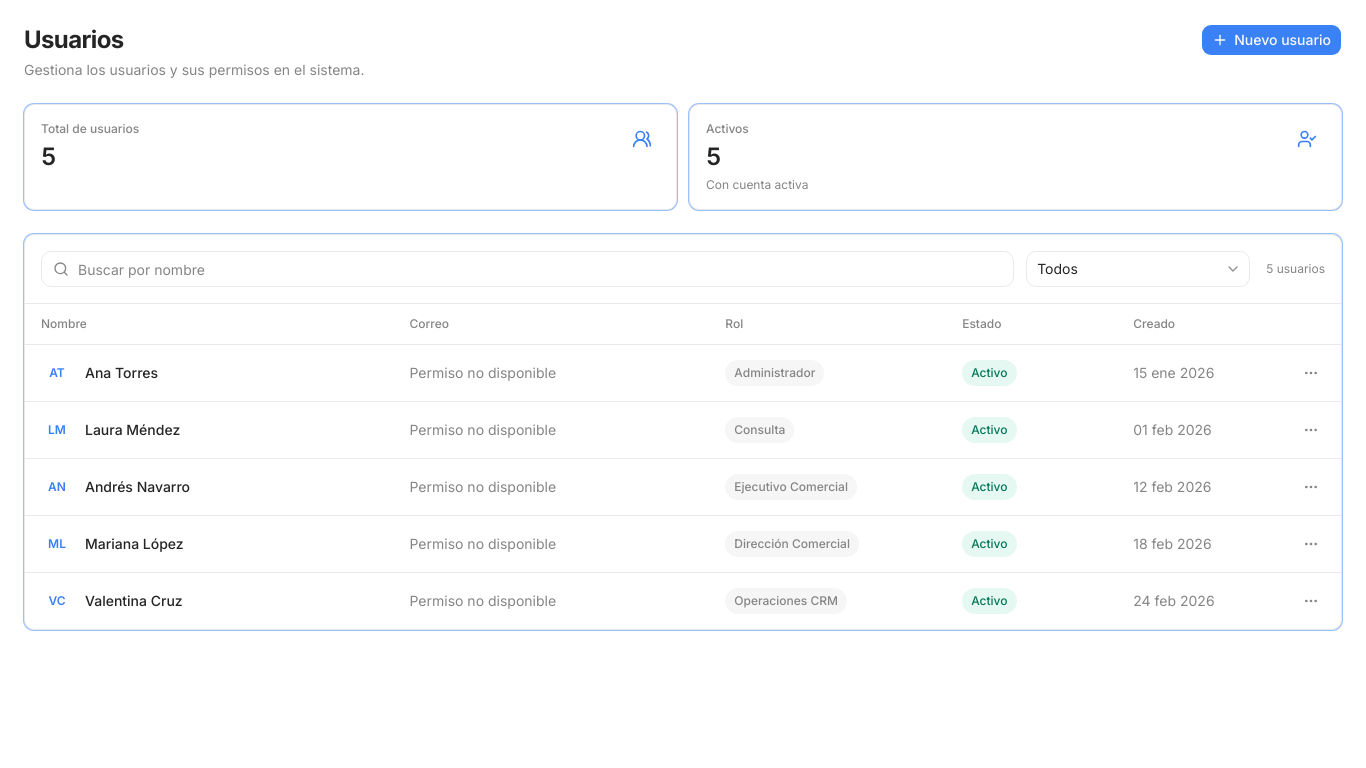
Test: UsuariosListPage › abre el diálogo "Editar usuario" con datos precargados
Expected: the text "Laura Méndez" is shown, 85,420 -> 180,440
# La segunda fila es Laura Méndez (índice 1)
Click the button named "acciones" at x=1311, y=430, box 1297,416 -> 1325,444
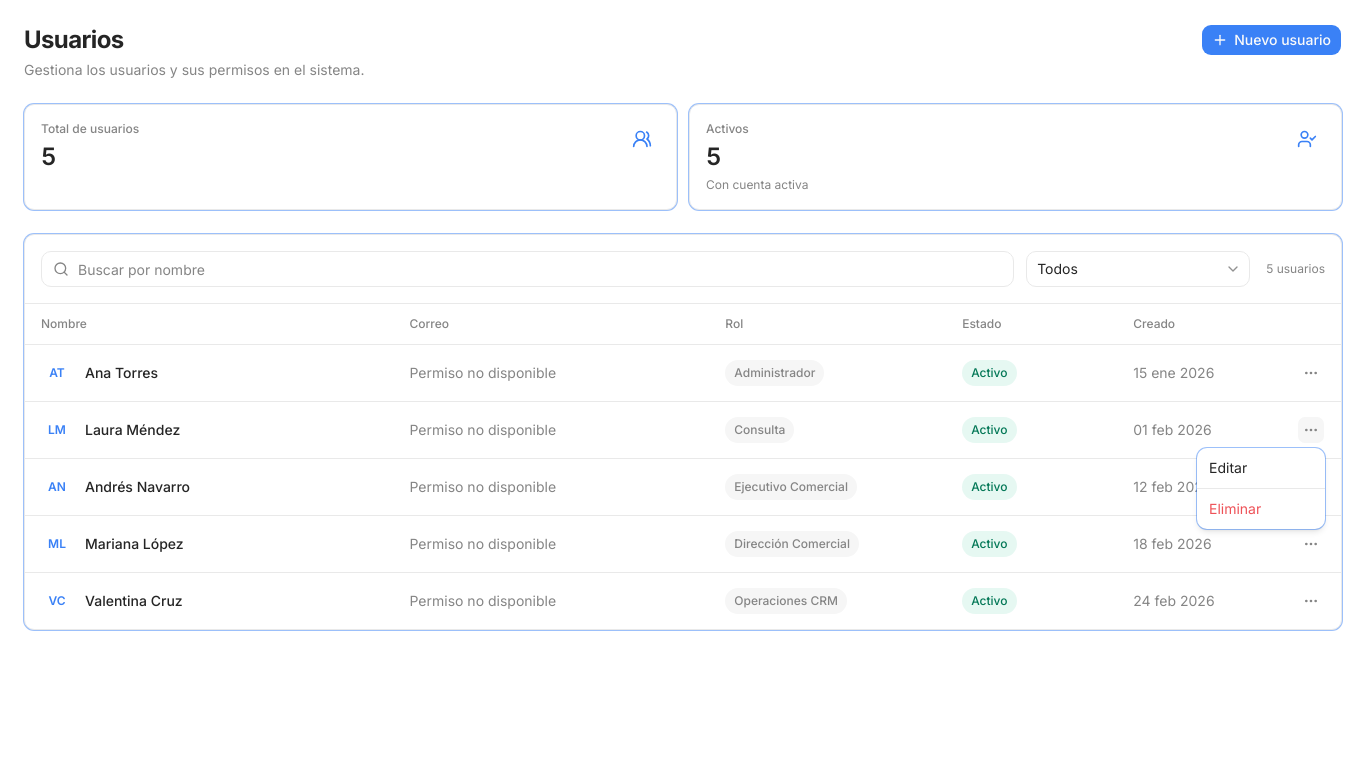
# Click en "Editar"
Click the menu item "Editar" at x=1228, y=468, box 1209,459 -> 1247,476
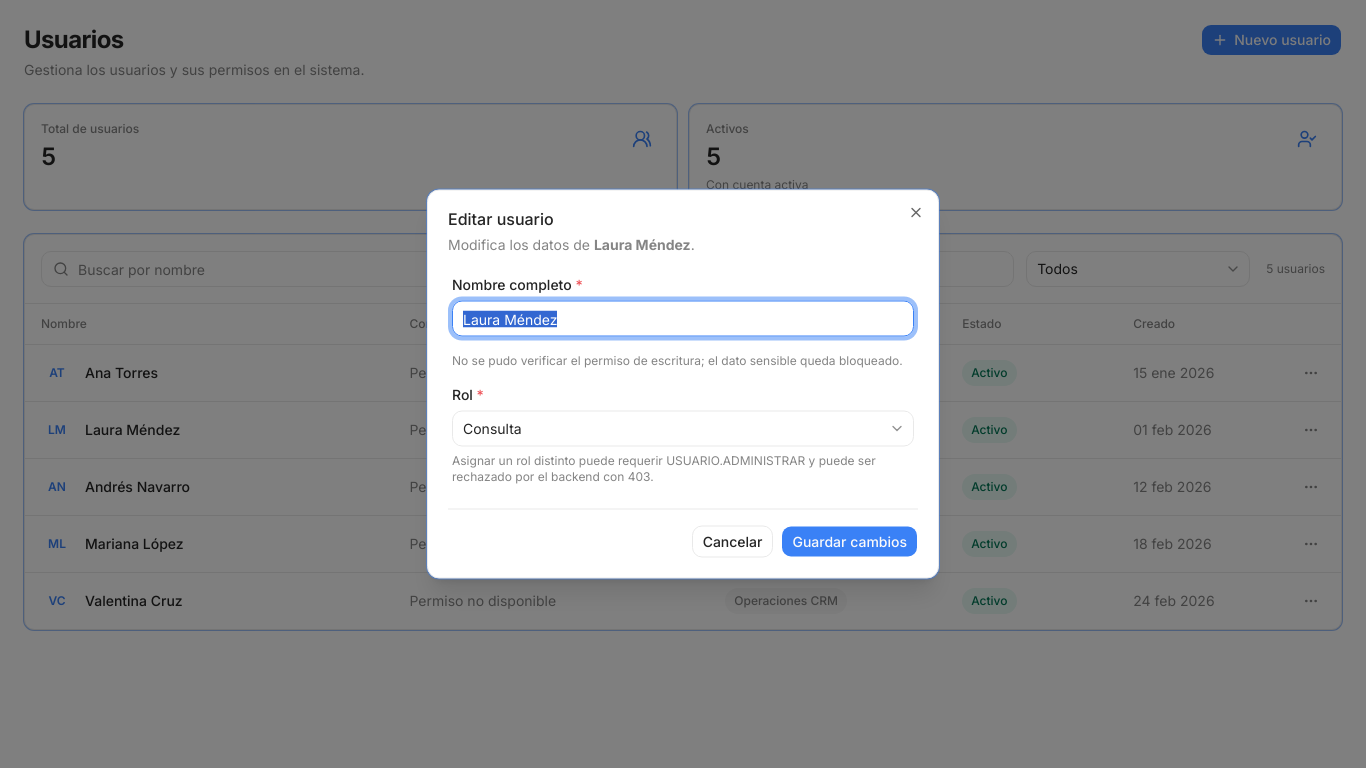
Expected: the heading "Editar usuario" is shown, 448,208 -> 554,228
Expected: the field labelled "Nombre completo *" holds "Laura Méndez", 452,300 -> 914,336
